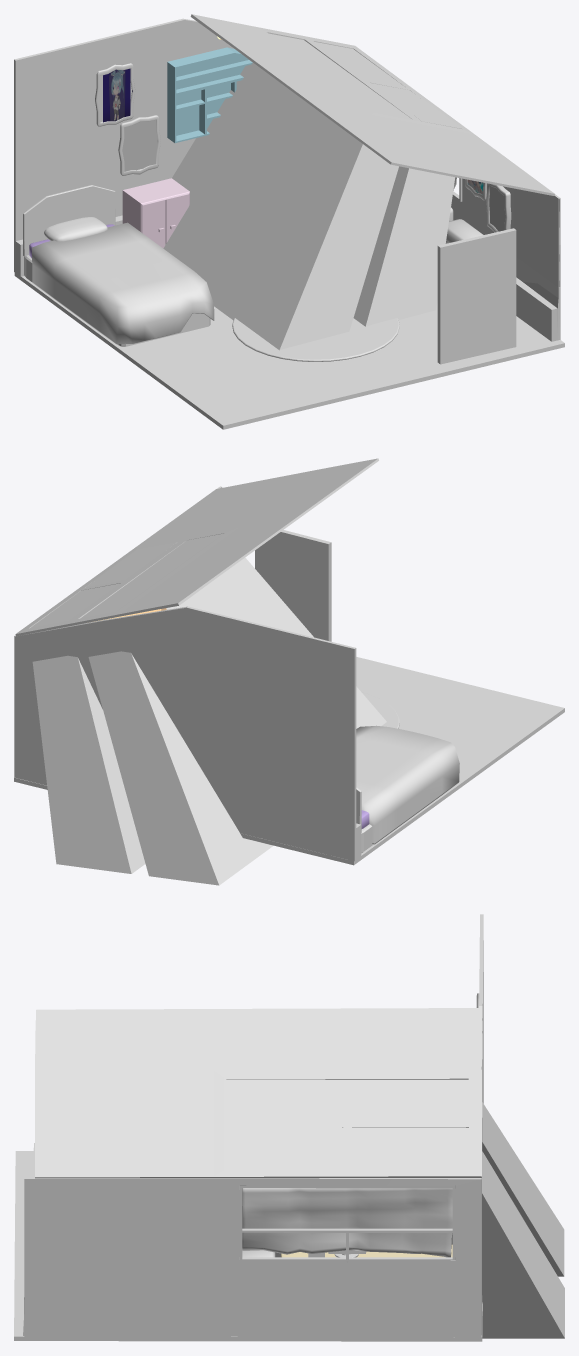
The model's file is EliraRoom.fbx.
The picture shows the model from 3 angles, top to bottom: view 1: azimuth 30°, elevation 25°; view 2: azimuth 150°, elevation 25°; view 3: azimuth 270°, elevation 25°; orthographic projection. The views are drawn at different scales.
Visible parts, largest first — view 1: Sunray, Wall_slanted, Floor, Roof, Bed.003, Door, Wall, Cube.001, Circle, Bed, Cube, Cube.004 (+8 smaller); view 2: Wall_slanted, Sunray, Roof, Floor, Bed.003, Door, Circle; view 3: Wall, Roof, Sunray, Curtain_neutral, Floor, Wall_slanted, Table.
Boxes of the visible parts, x1,y1,x2,y2 form: Sunray: [163, 33, 462, 350]; Wall_slanted: [14, 18, 234, 276]; Floor: [14, 273, 564, 429]; Roof: [190, 14, 554, 195]; Bed.003: [32, 222, 214, 344]; Door: [437, 228, 516, 364]; Wall: [451, 178, 560, 341]; Cube.001: [167, 47, 252, 143]; Circle: [232, 318, 399, 361]; Bed: [23, 185, 115, 256]; Cube: [122, 178, 189, 248]; Cube.004: [122, 120, 157, 171]; Wall_slanted: [16, 606, 361, 861]; Sunray: [30, 533, 386, 885]; Roof: [15, 458, 378, 636]; Floor: [14, 657, 564, 865]; Bed.003: [356, 725, 459, 844]; Door: [255, 530, 331, 641]; Circle: [361, 692, 399, 728]; Wall: [23, 1177, 481, 1337]; Roof: [35, 1008, 482, 1178]; Sunray: [225, 1079, 564, 1338]; Curtain_neutral: [242, 1188, 452, 1257]; Floor: [14, 1151, 482, 1341]; Wall_slanted: [479, 914, 483, 1334]; Table: [281, 1244, 452, 1257].
Size of the model in its own units: 42661 by 30334 by 53273.
